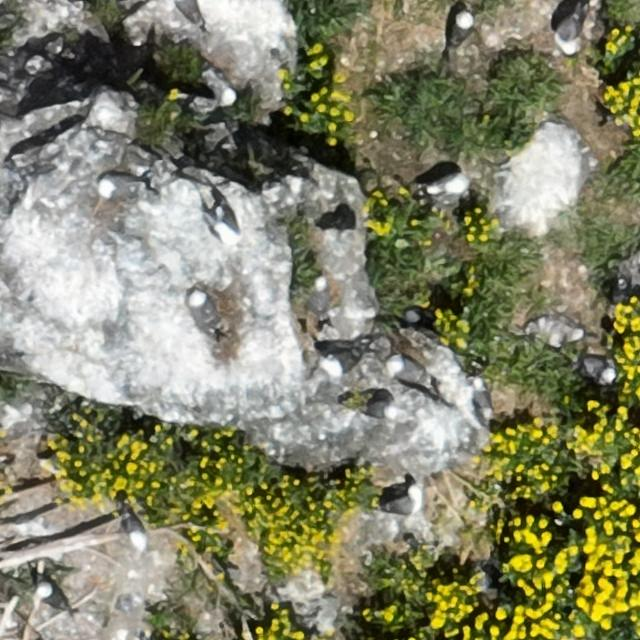umineko: (551, 3, 587, 58), (190, 287, 226, 340), (321, 338, 373, 374), (209, 190, 243, 244), (307, 278, 339, 330), (388, 354, 436, 386), (207, 74, 238, 103), (382, 491, 419, 515), (580, 358, 614, 384), (354, 399, 397, 418), (428, 176, 465, 197), (100, 177, 138, 197), (449, 11, 470, 44), (40, 584, 66, 610), (124, 513, 144, 543)
